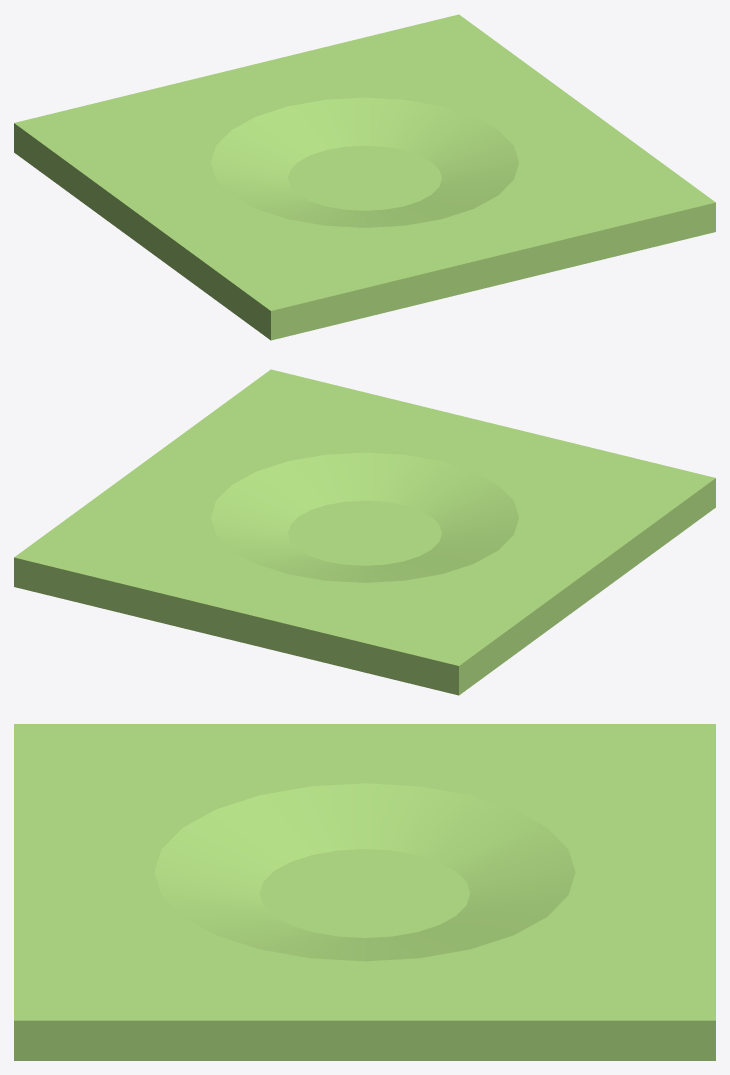
File: Bump_down_01.glb
The picture shows the model from 3 angles, top to bottom: view 1: azimuth 30°, elevation 25°; view 2: azimuth 150°, elevation 25°; view 3: azimuth 270°, elevation 25°; orthographic projection. The views are drawn at different scales.
Visible parts, largest first — view 1: Mesh1 Bump_down Model; view 2: Mesh1 Bump_down Model; view 3: Mesh1 Bump_down Model.
Part boxes in pixels (x1=…): Mesh1 Bump_down Model: x1=14, y1=14, x2=715, y2=340; Mesh1 Bump_down Model: x1=14, y1=369, x2=715, y2=695; Mesh1 Bump_down Model: x1=14, y1=724, x2=715, y2=1060.
Size of the model in its own units: 3 by 0.19 by 3.
